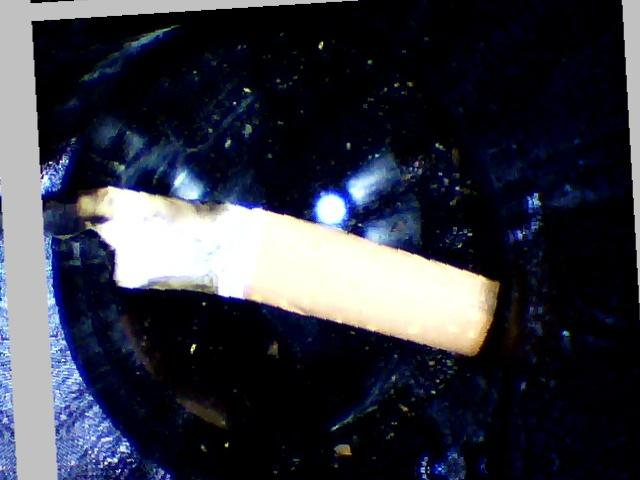megot: (41, 153, 512, 400)
